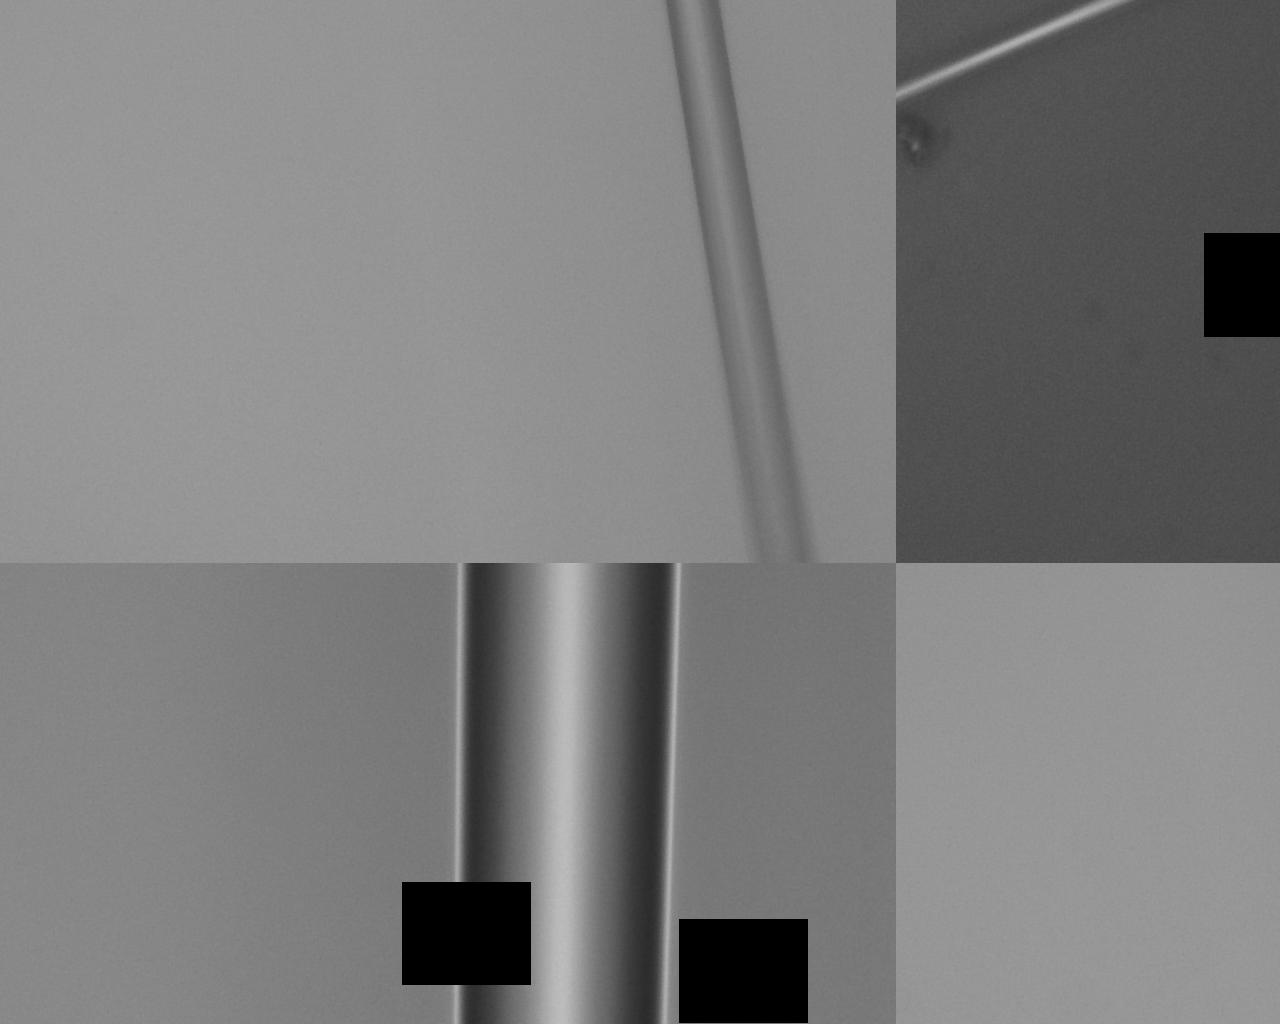fiber: (373, 634, 664, 1024), (551, 0, 661, 634), (729, 0, 785, 634)
